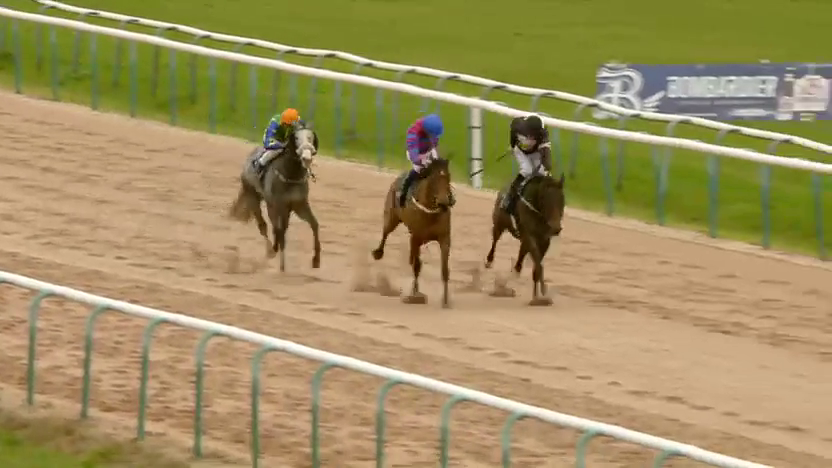jockey: (502, 114, 557, 209), (400, 116, 449, 216), (255, 110, 311, 177)
